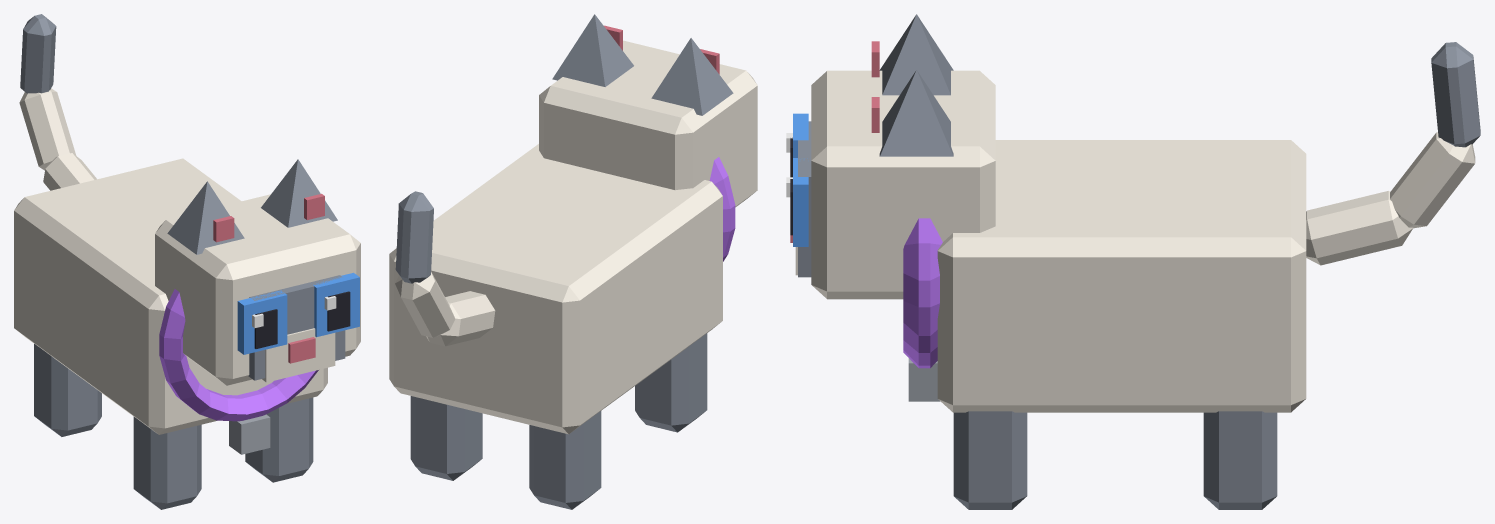
The model's file is CatCafe_Cat_Ragdoll.glb.
3 renders of one model, left to right at view 1: azimuth 30°, elevation 25°; view 2: azimuth 150°, elevation 25°; view 3: azimuth 270°, elevation 25°, orthographic. The views are drawn at different scales.
Parts seen in each view (by area): view 1: CatCafe_Cat_Ragdoll_Body, CatCafe_Cat_Ragdoll_Head, CatCafe_Cat_Ragdoll_Tail; view 2: CatCafe_Cat_Ragdoll_Body, CatCafe_Cat_Ragdoll_Head, CatCafe_Cat_Ragdoll_Tail; view 3: CatCafe_Cat_Ragdoll_Body, CatCafe_Cat_Ragdoll_Head, CatCafe_Cat_Ragdoll_Tail.
Boxes of the visible parts, box(x1,y1,x2,y2) form: CatCafe_Cat_Ragdoll_Body: box(14, 158, 327, 509); CatCafe_Cat_Ragdoll_Head: box(155, 159, 360, 385); CatCafe_Cat_Ragdoll_Tail: box(19, 14, 96, 190); CatCafe_Cat_Ragdoll_Body: box(389, 144, 735, 509); CatCafe_Cat_Ragdoll_Head: box(539, 14, 757, 207); CatCafe_Cat_Ragdoll_Tail: box(395, 191, 495, 346); CatCafe_Cat_Ragdoll_Body: box(903, 140, 1306, 509); CatCafe_Cat_Ragdoll_Head: box(786, 14, 995, 299); CatCafe_Cat_Ragdoll_Tail: box(1306, 42, 1480, 265).
Bounding box in the file's own units: 1.19 × 2.14 × 3.16.
Materials: 1 (1 with a texture image).
